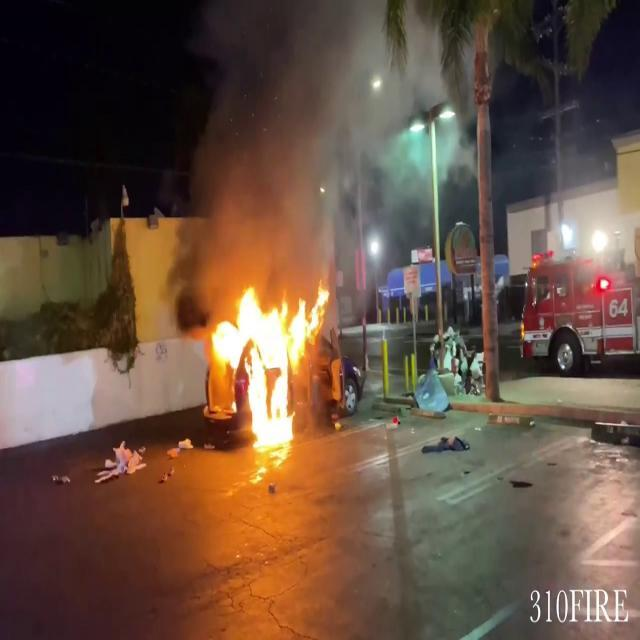Fire: (206, 274, 328, 456)
Smoke: (173, 0, 463, 275)
